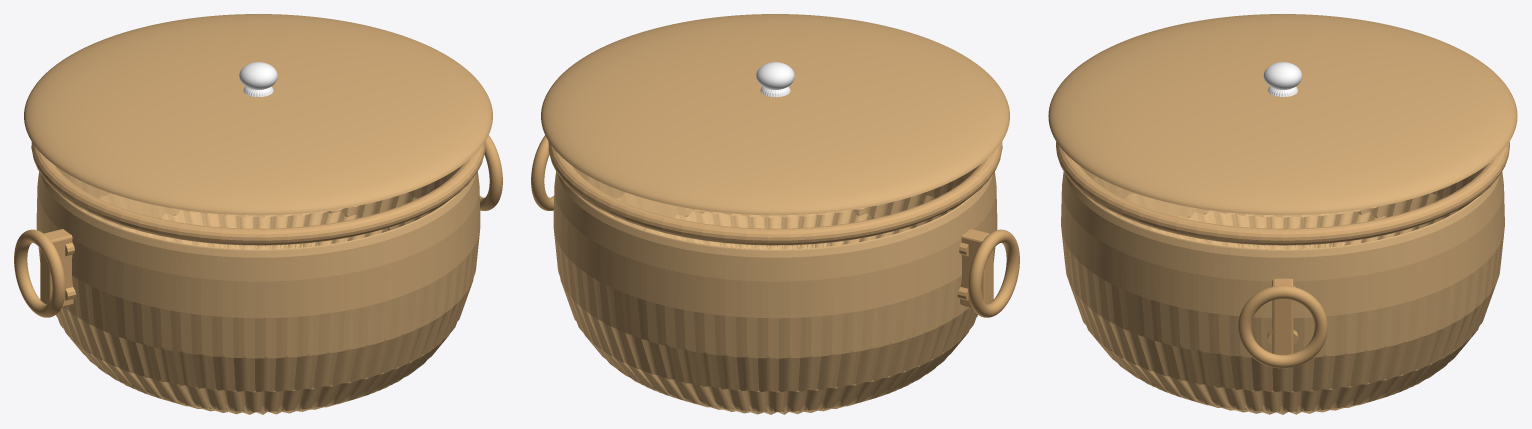
3 renders of one model, left to right at view 1: azimuth 30°, elevation 25°; view 2: azimuth 150°, elevation 25°; view 3: azimuth 270°, elevation 25°, orthographic.
Parts seen in each view (by area): view 1: Pot_Lid, Pot_Body, Pot_Rim, Pot_Handle_2, Pot_Handle_Connector_2, Pot_Handle_1, Lid_Knob_Top; view 2: Pot_Lid, Pot_Body, Pot_Rim, Pot_Handle_2, Pot_Handle_Connector_2, Pot_Handle_1, Lid_Knob_Top; view 3: Pot_Lid, Pot_Body, Pot_Rim, Pot_Handle_1, Pot_Handle_Connector_1, Lid_Knob_Top.
Part boxes in pixels (bbox=[...]): Pot_Lid: bbox=[24, 14, 492, 215]; Pot_Body: bbox=[36, 166, 480, 414]; Pot_Rim: bbox=[31, 141, 485, 245]; Pot_Handle_2: bbox=[14, 229, 65, 317]; Pot_Handle_Connector_2: bbox=[40, 229, 73, 307]; Pot_Handle_1: bbox=[479, 135, 502, 210]; Lid_Knob_Top: bbox=[239, 62, 277, 89]; Pot_Lid: bbox=[541, 14, 1009, 215]; Pot_Body: bbox=[553, 166, 997, 414]; Pot_Rim: bbox=[548, 141, 1002, 245]; Pot_Handle_2: bbox=[968, 229, 1019, 317]; Pot_Handle_Connector_2: bbox=[960, 229, 993, 307]; Pot_Handle_1: bbox=[531, 135, 554, 210]; Lid_Knob_Top: bbox=[756, 62, 794, 89]; Pot_Lid: bbox=[1048, 14, 1517, 215]; Pot_Body: bbox=[1061, 166, 1504, 414]; Pot_Rim: bbox=[1056, 142, 1509, 245]; Pot_Handle_1: bbox=[1238, 285, 1327, 368]; Pot_Handle_Connector_1: bbox=[1272, 278, 1293, 354]; Lid_Knob_Top: bbox=[1263, 62, 1302, 89].
Size of the model in its own units: 0.7391 by 0.507 by 0.6689.
